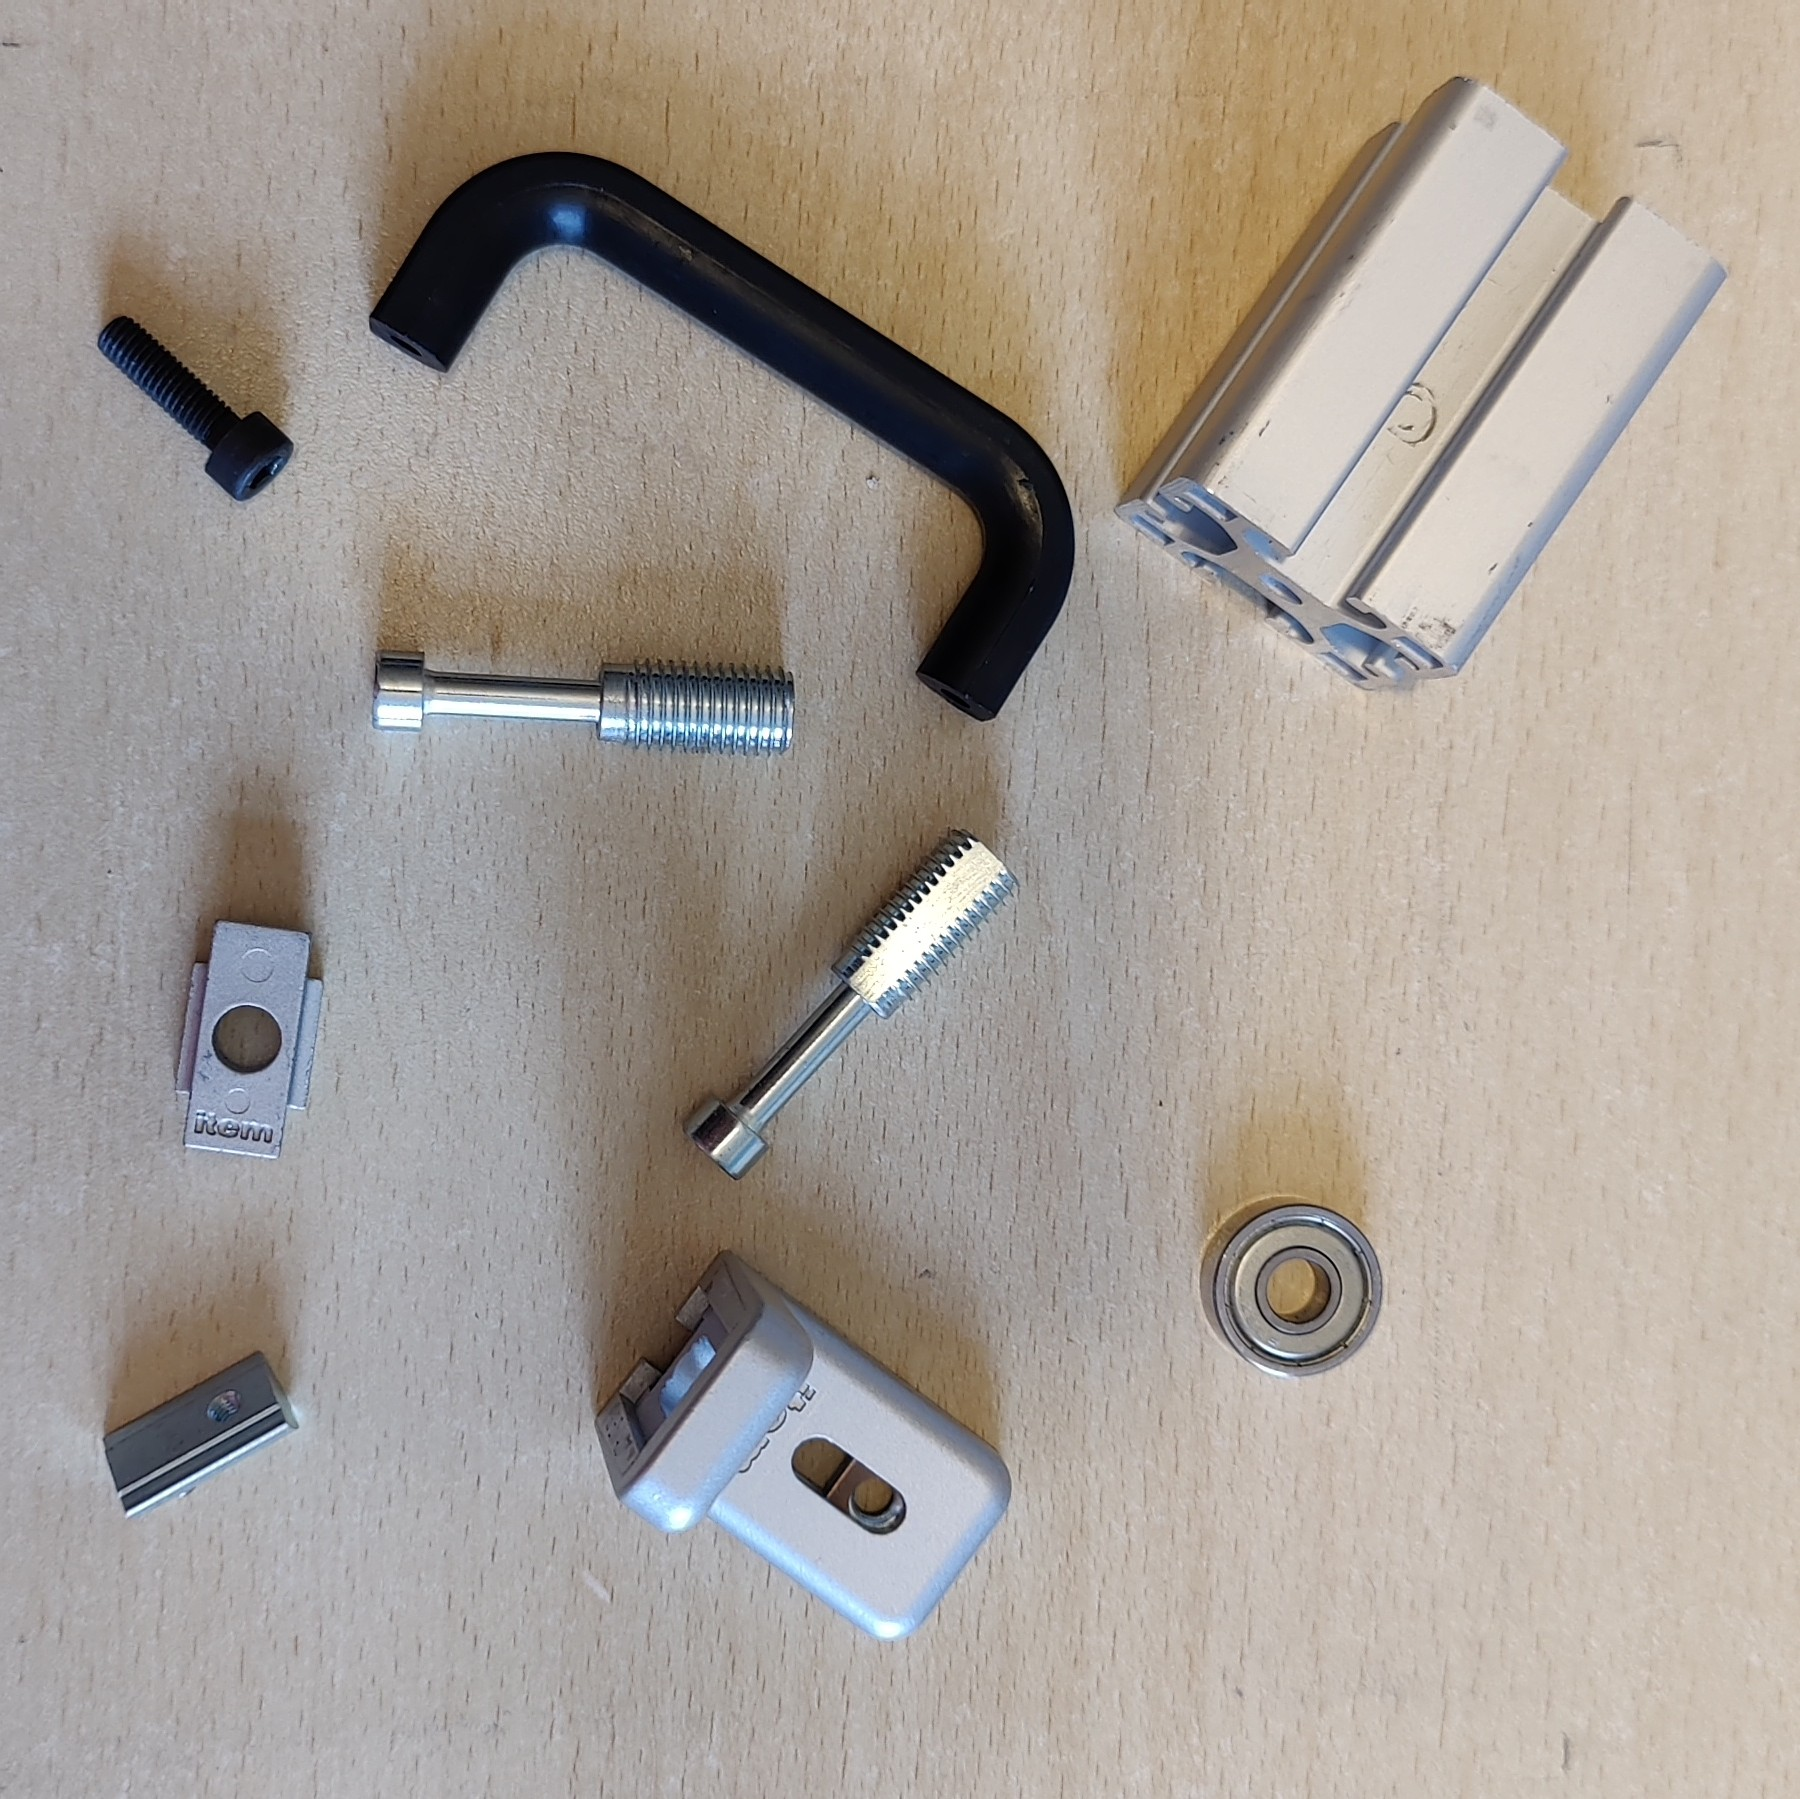Aluminium Extension: (1113, 72, 1732, 694)
Ball Bearing: (1197, 1193, 1387, 1379)
Multiwinkel: (590, 1244, 1016, 1642)
Pull Handle: (362, 148, 1079, 723)
Shoulder Socket Head Cap Screw: (677, 825, 1021, 1183), (366, 646, 800, 759)
Socket Head Cap Screw: (94, 311, 296, 504)
T Nut Square: (170, 914, 329, 1165)
T Spring Nut: (100, 1346, 301, 1522)
